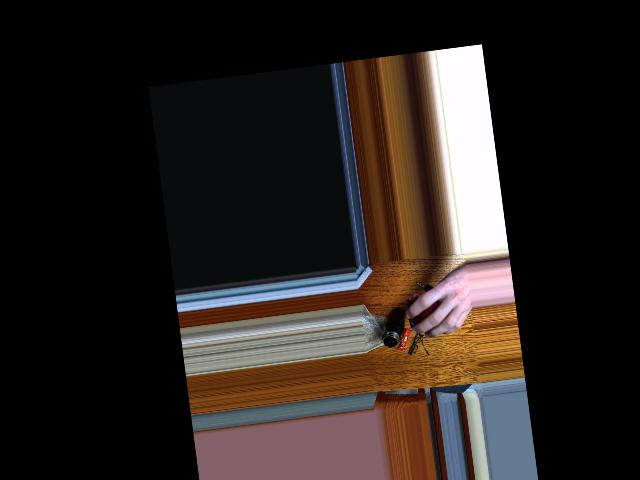onion: (412, 289, 449, 333)
